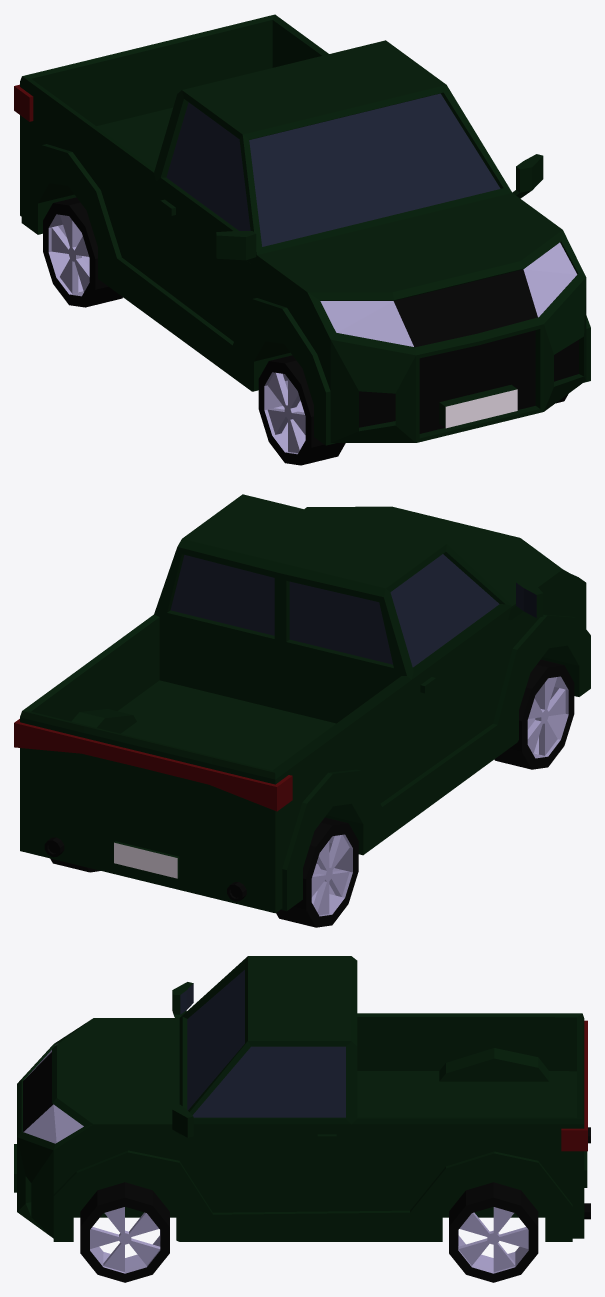
The model's file is pickup.glb.
The picture shows the model from 3 angles, top to bottom: view 1: azimuth 30°, elevation 25°; view 2: azimuth 150°, elevation 25°; view 3: azimuth 270°, elevation 25°; orthographic projection. The views are drawn at different scales.
Parts seen in each view (by area): view 1: body-0, wheel-front-right, wheel-back-right; view 2: body-0, wheel-back-right, wheel-front-right; view 3: body-0, wheel-back-left, wheel-front-left.
Boxes of the visible parts, x1=… form: body-0: x1=14, y1=14, x2=590, y2=445; wheel-front-right: x1=258, y1=355, x2=345, y2=465; wheel-back-right: x1=43, y1=197, x2=122, y2=307; body-0: x1=14, y1=494, x2=590, y2=913; wheel-back-right: x1=276, y1=817, x2=358, y2=927; wheel-front-right: x1=494, y1=659, x2=574, y2=769; body-0: x1=14, y1=956, x2=590, y2=1241; wheel-back-left: x1=449, y1=1182, x2=538, y2=1282; wheel-front-left: x1=80, y1=1182, x2=169, y2=1282.
Bounding box in the file's own units: 1.95 × 1.54 × 3.5.
